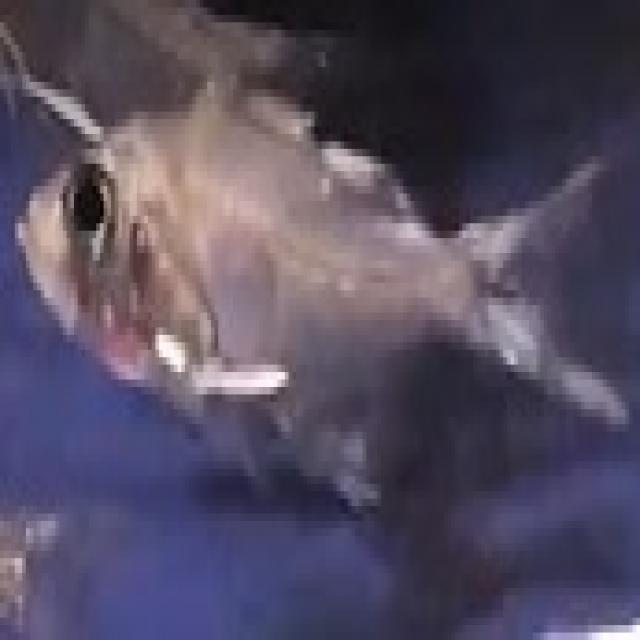Glass-Perchlet: (0, 32, 640, 523)
